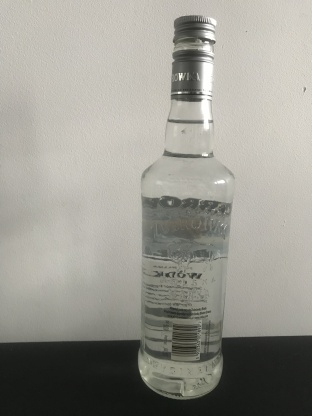nakretka: (169, 13, 217, 102)
